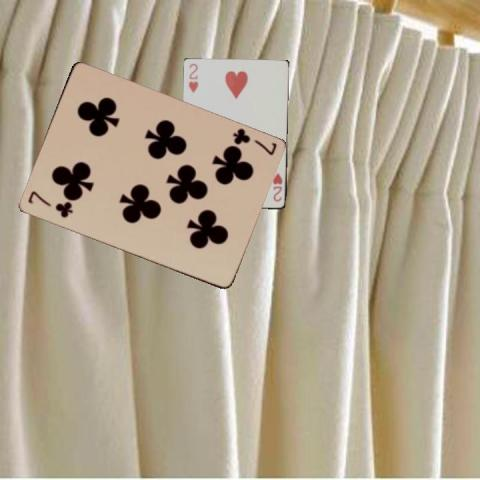2h: (186, 61, 200, 94), (270, 170, 284, 202)
7c: (229, 126, 278, 158), (24, 188, 74, 219)
